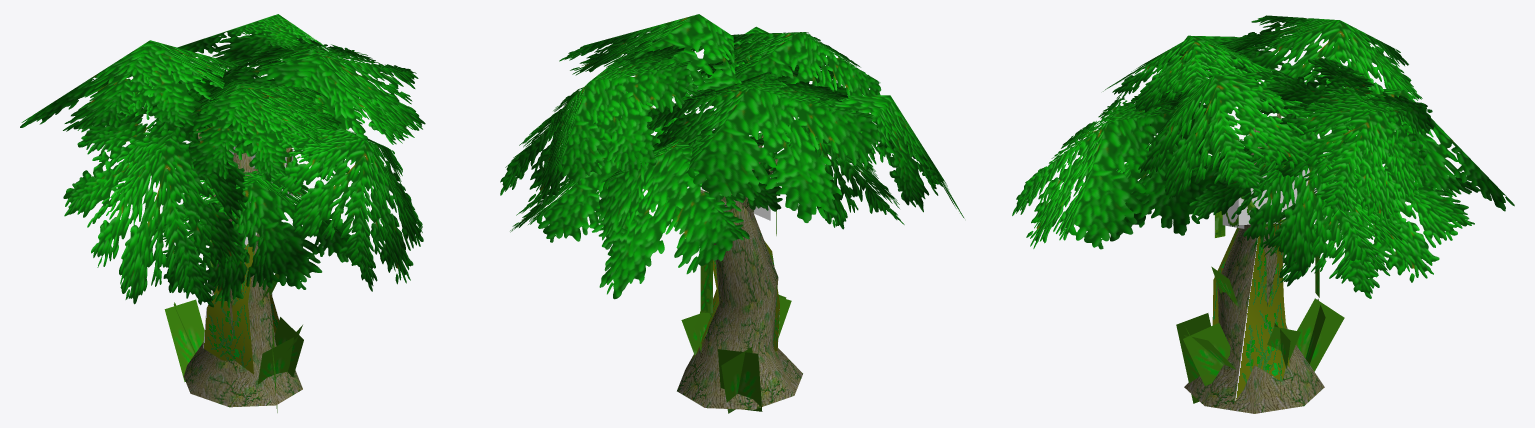
File: tree01.obj
3 renders of one model, left to right at view 1: azimuth 30°, elevation 25°; view 2: azimuth 150°, elevation 25°; view 3: azimuth 270°, elevation 25°, orthographic. The views are drawn at different scales.
Visible parts, largest first — view 1: Duplicate07, Duplicate06, Duplicate11, Duplicate10, Duplicate12, Sphere03, Cylinder01, Duplicate13, Box04, Duplicate09, Duplicate08, Duplicate03 (+1 smaller); view 2: Sphere03, Duplicate05, Duplicate13, Cylinder01, Duplicate11, Duplicate12, Duplicate07, Duplicate09, Duplicate08, Duplicate10, Duplicate06, Duplicate04; view 3: Duplicate13, Duplicate06, Duplicate11, Duplicate08, Duplicate09, Cylinder01, Sphere03, Duplicate12, Duplicate05, Duplicate01, Duplicate10, Duplicate07 (+1 smaller).
Part boxes in pixels (bbox=[...]): Duplicate07: bbox=[63, 89, 247, 307]; Duplicate06: bbox=[273, 103, 423, 291]; Duplicate11: bbox=[164, 37, 425, 381]; Duplicate10: bbox=[153, 170, 357, 412]; Duplicate12: bbox=[142, 78, 341, 181]; Sphere03: bbox=[20, 40, 266, 131]; Cylinder01: bbox=[183, 145, 302, 407]; Duplicate13: bbox=[174, 14, 330, 296]; Box04: bbox=[203, 303, 253, 374]; Duplicate09: bbox=[140, 96, 351, 377]; Duplicate08: bbox=[232, 66, 419, 301]; Duplicate03: bbox=[196, 129, 256, 308]; Sphere03: bbox=[646, 72, 880, 222]; Duplicate05: bbox=[595, 112, 782, 299]; Duplicate13: bbox=[543, 45, 719, 302]; Cylinder01: bbox=[677, 194, 802, 409]; Duplicate11: bbox=[559, 14, 802, 413]; Duplicate12: bbox=[690, 32, 881, 138]; Duplicate07: bbox=[681, 95, 964, 354]; Duplicate09: bbox=[510, 155, 682, 256]; Duplicate08: bbox=[500, 76, 702, 205]; Duplicate10: bbox=[749, 118, 904, 337]; Duplicate06: bbox=[647, 26, 847, 352]; Duplicate04: bbox=[700, 257, 712, 313]; Duplicate13: bbox=[1246, 58, 1435, 315]; Duplicate06: bbox=[1012, 90, 1300, 360]; Duplicate11: bbox=[1138, 70, 1344, 371]; Duplicate08: bbox=[1188, 147, 1407, 306]; Duplicate09: bbox=[1183, 168, 1480, 385]; Cylinder01: bbox=[1184, 127, 1324, 413]; Sphere03: bbox=[1220, 15, 1422, 145]; Duplicate12: bbox=[1103, 36, 1279, 112]; Duplicate05: bbox=[1276, 86, 1514, 211]; Duplicate01: bbox=[1235, 301, 1289, 400]; Duplicate10: bbox=[1110, 135, 1267, 403]; Duplicate07: bbox=[1131, 35, 1305, 368].
Bounding box in the file's own units: 205 × 170 × 224.
